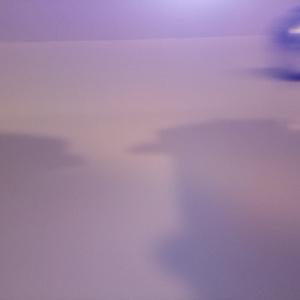alive_ball: (271, 12, 300, 79)
